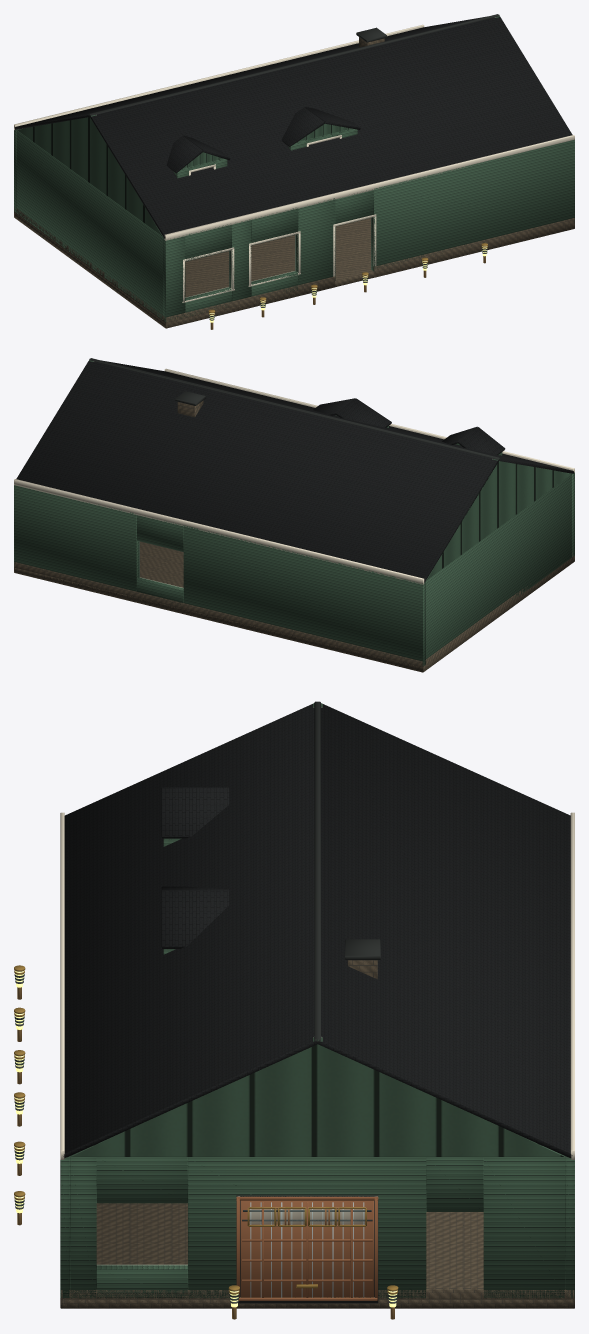
File: asset_051_finished_clubhouse_exterior.glb
The picture shows the model from 3 angles, top to bottom: view 1: azimuth 30°, elevation 25°; view 2: azimuth 150°, elevation 25°; view 3: azimuth 270°, elevation 25°; orthographic projection. The views are drawn at different scales.
Visible parts, largest first — view 1: MESH_RoofSouthPlane, MESH_FrontPier_East, MESH_WestWall, MESH_FoundationPlinth, MESH_FieldstoneWaterTable, MESH_WestGable, MESH_FrontPier_2, MESH_FrontFascia, MESH_RoofNorthPlane, MESH_FrontPier_0, MESH_FrontPier_1, MESH_BackFascia (+13 smaller); view 2: MESH_RoofNorthPlane, MESH_BackWall, MESH_WestWall, MESH_FieldstoneWaterTable, MESH_WestGable, MESH_FoundationPlinth, MESH_BackFascia, MESH_RoofSouthPlane, MESH_RidgeCap, MESH_DormerEntry_ShingleRoof, MESH_FrontFascia, MESH_DormerWest_ShingleRoof; view 3: MESH_RoofNorthPlane, MESH_RoofSouthPlane, MESH_EastGable, MESH_EastPier_1, MESH_FoundationPlinth, MESH_GarageDoorLuxuryAssembly, MESH_EastPier_North, MESH_FieldstoneWaterTable, MESH_EastAbove_EastWindow, MESH_EastPier_0, MESH_DormerEntry_ShingleRoof, MESH_EastAbove_ServiceDoor (+13 smaller).
Part boxes in pixels (x1,y1,x2,y2): MESH_RoofSouthPlane: (90,17,572,238); MESH_FrontPier_East: (371,139,574,271); MESH_WestWall: (17,130,162,319); MESH_FoundationPlinth: (14,213,374,327); MESH_FieldstoneWaterTable: (14,207,574,328); MESH_WestGable: (17,114,162,236); MESH_FrontPier_2: (295,198,335,285); MESH_FrontFascia: (164,135,574,240); MESH_RoofNorthPlane: (15,16,487,129); MESH_FrontPier_0: (163,235,185,322); MESH_FrontPier_1: (229,219,251,301); MESH_BackFascia: (14,24,424,129); MESH_RoofNorthPlane: (16,361,498,582); MESH_BackWall: (14,485,425,666); MESH_WestWall: (426,474,571,659); MESH_FieldstoneWaterTable: (14,552,574,672); MESH_WestGable: (426,458,571,580); MESH_FoundationPlinth: (14,541,574,671); MESH_BackFascia: (14,479,424,584); MESH_RoofSouthPlane: (101,360,573,473); MESH_RidgeCap: (89,358,499,460); MESH_DormerEntry_ShingleRoof: (313,398,391,427); MESH_FrontFascia: (164,368,574,472); MESH_DormerWest_ShingleRoof: (442,426,505,454); MESH_RoofNorthPlane: (317,704,572,1157); MESH_RoofSouthPlane: (63,704,317,1158); MESH_EastGable: (70,1037,564,1156); MESH_EastPier_1: (188,1157,426,1298); MESH_FoundationPlinth: (61,1203,573,1308); MESH_GarageDoorLuxuryAssembly: (236,1196,378,1300); MESH_EastPier_North: (483,1156,565,1298); MESH_FieldstoneWaterTable: (60,1288,574,1308); MESH_EastAbove_EastWindow: (96,1157,187,1203); MESH_EastPier_0: (70,1156,96,1298); MESH_DormerEntry_ShingleRoof: (161,886,229,948); MESH_EastAbove_ServiceDoor: (426,1157,483,1211).
Size of the model in its own units: 19.89 by 7.13 by 13.46.
21 materials, 3 textured.
